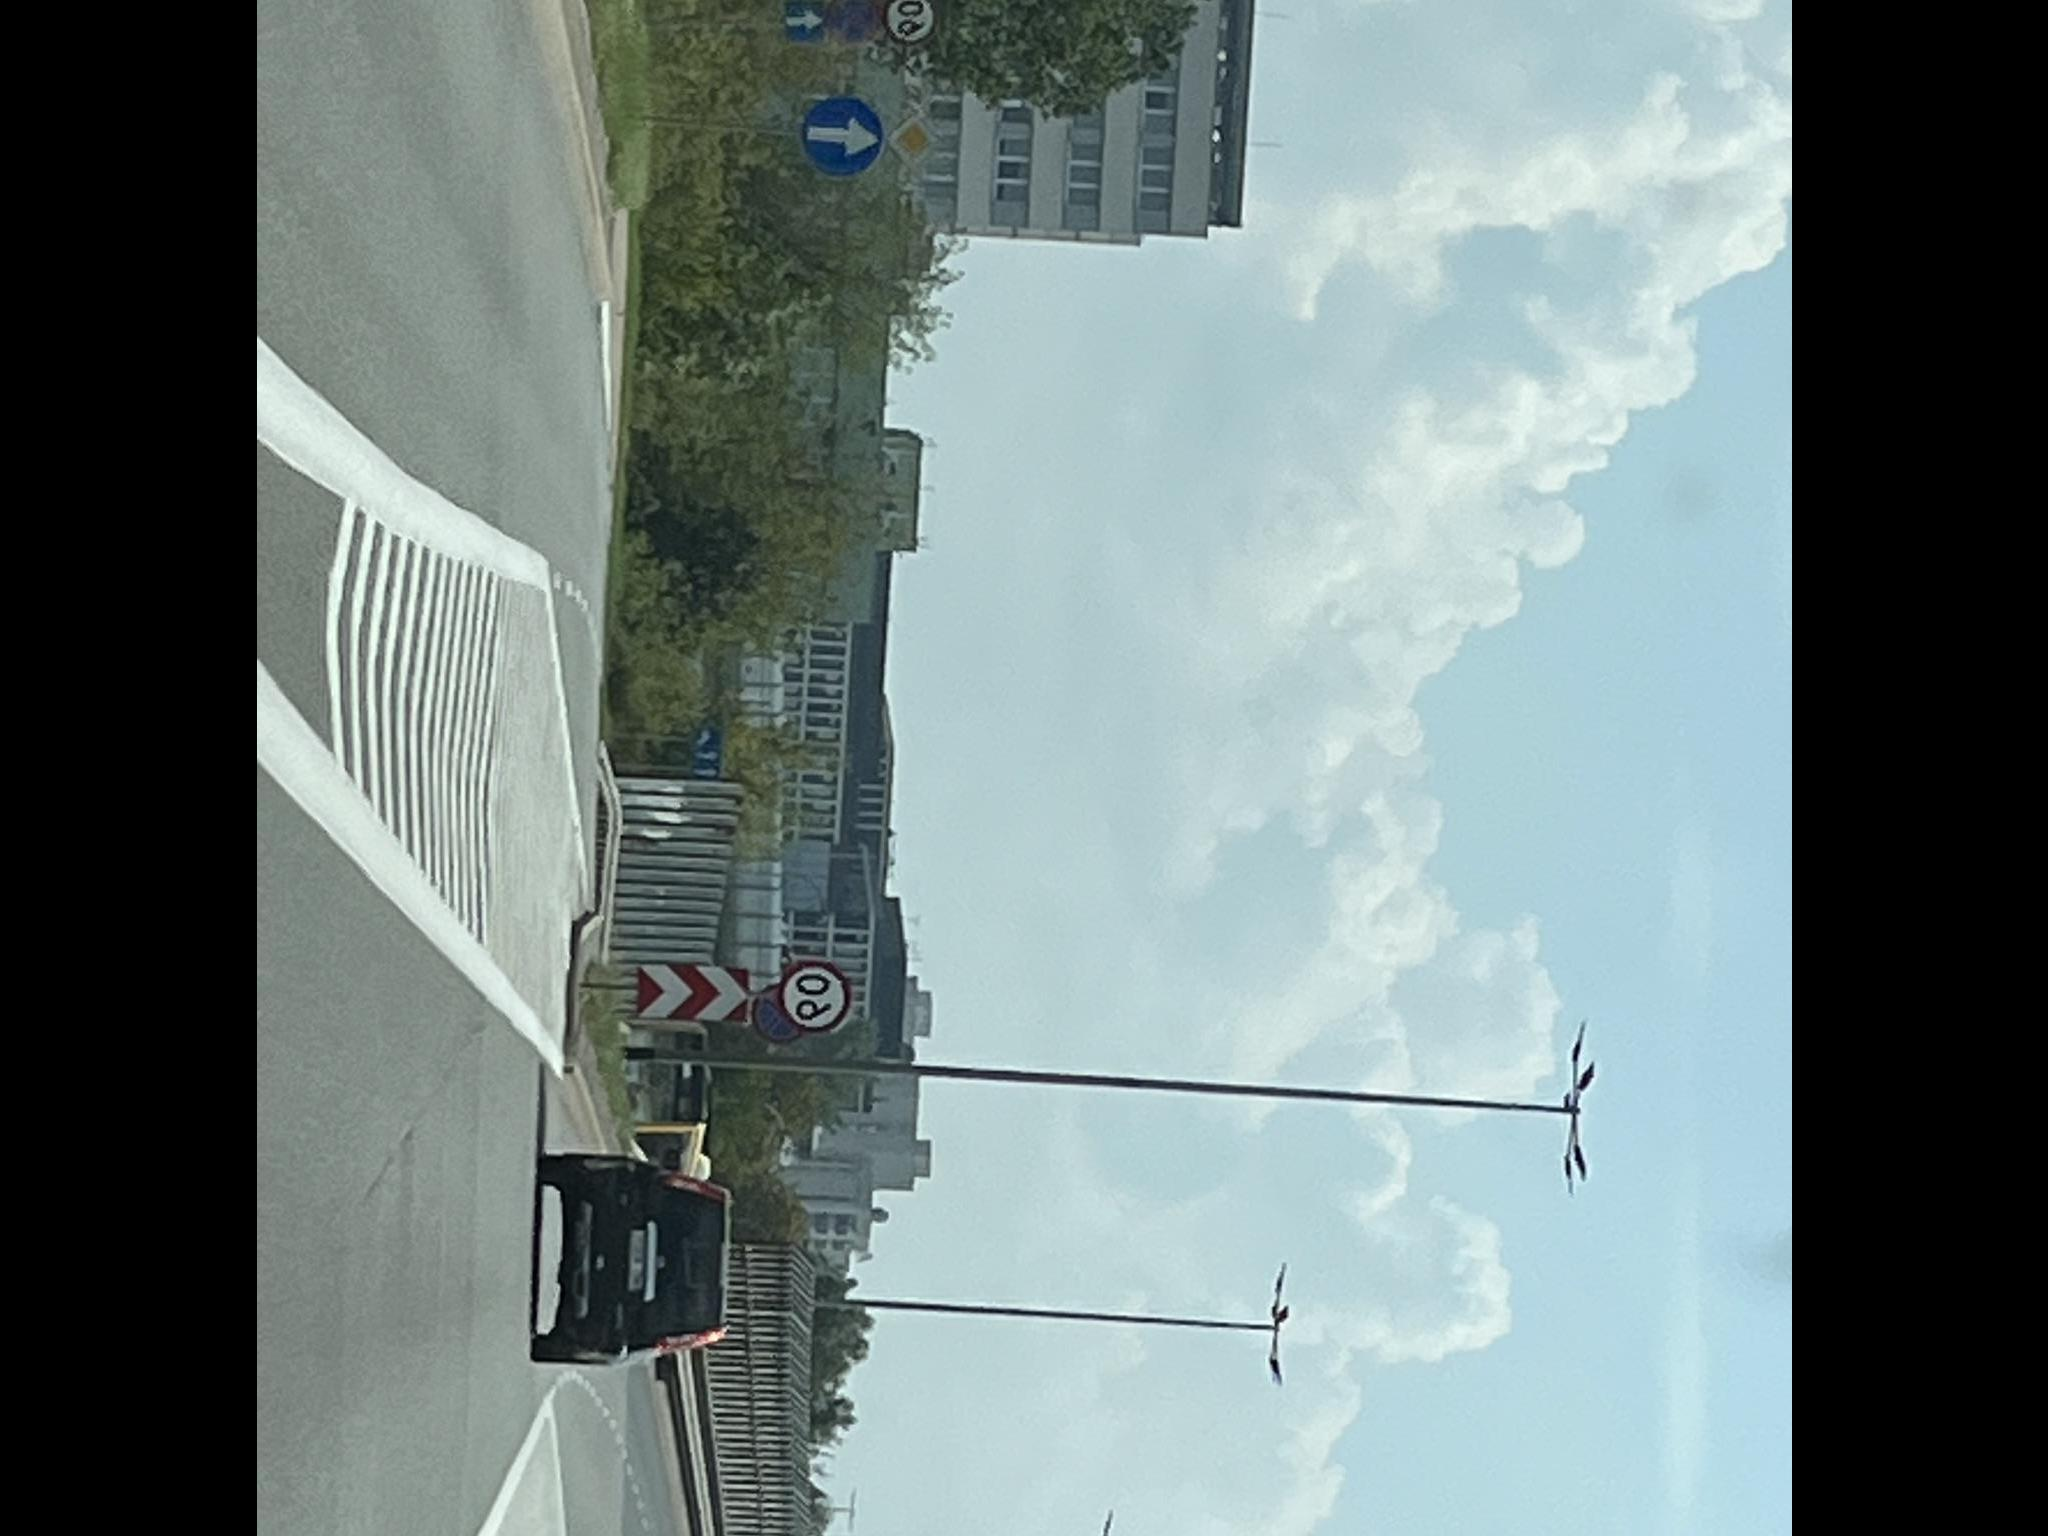information: (884, 115, 942, 170), (784, 0, 824, 42)
mandatory: (800, 95, 884, 179)
prohibitory: (780, 962, 852, 1035), (750, 985, 798, 1047), (880, 0, 940, 46), (825, 0, 878, 44)
